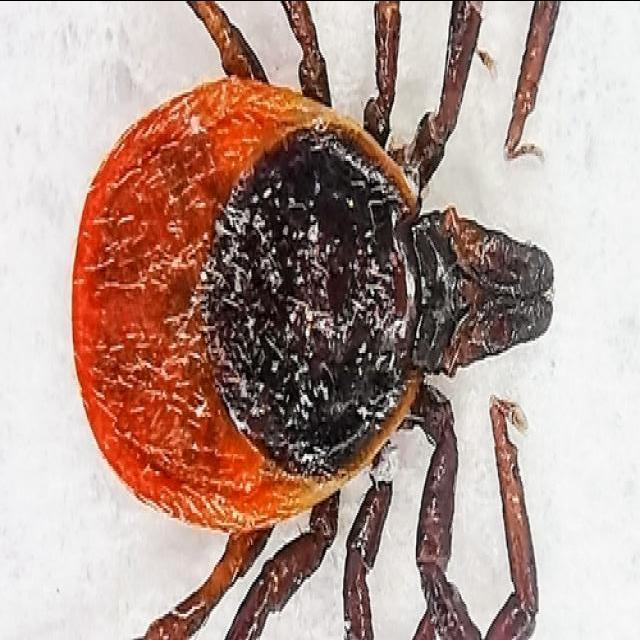Ixodes Ricinus-F: (69, 0, 553, 640)
